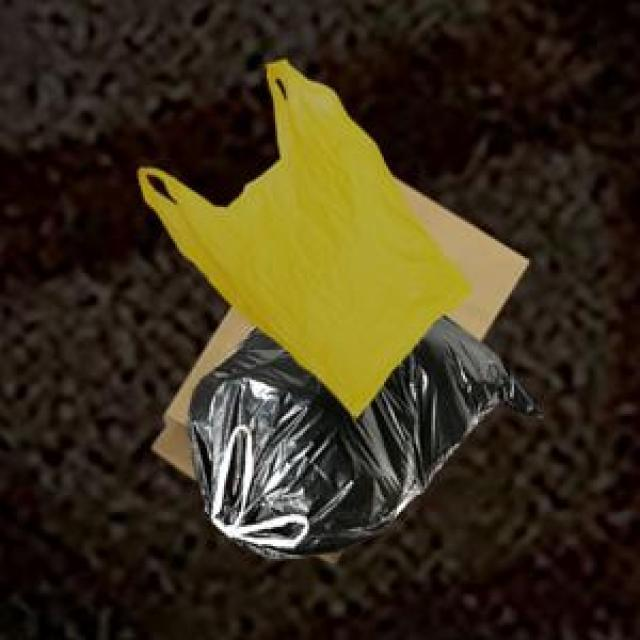miscellaneous trash: (184, 312, 538, 555)
paper: (149, 303, 377, 559), (377, 173, 525, 385)
